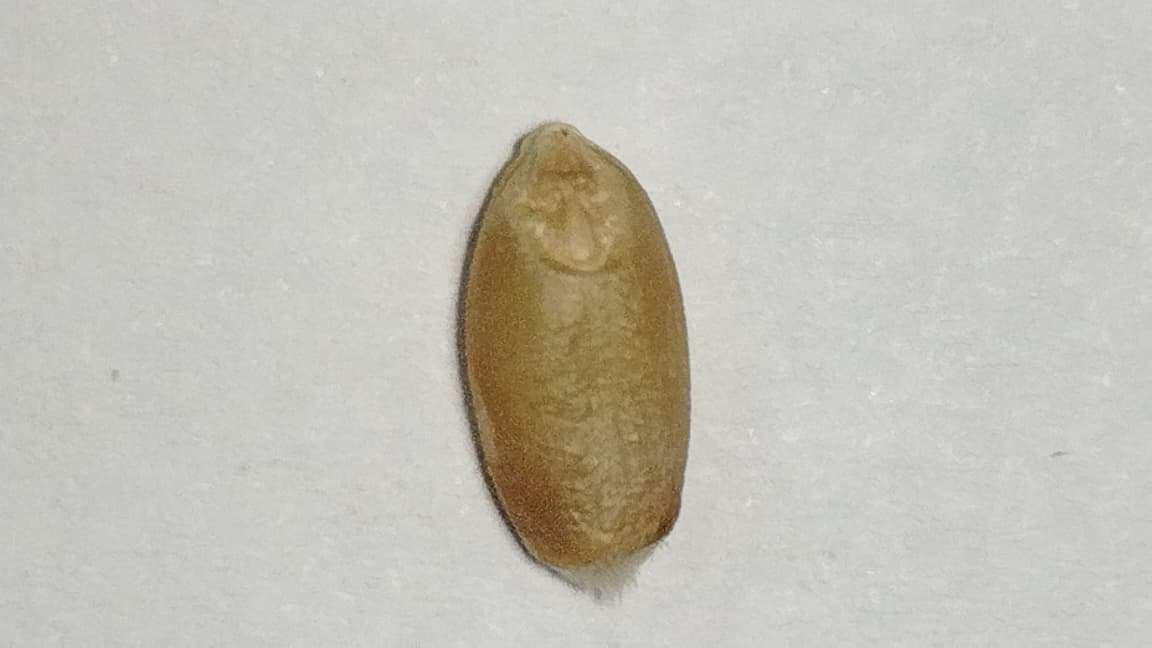healthy: (457, 122, 691, 594)
